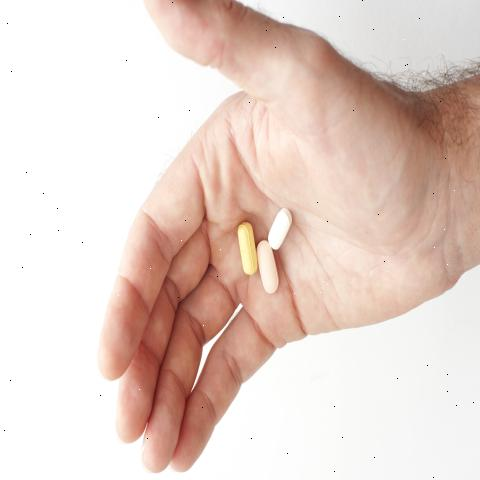Pill: (254, 196, 300, 260), (227, 195, 256, 283), (253, 236, 281, 302)
